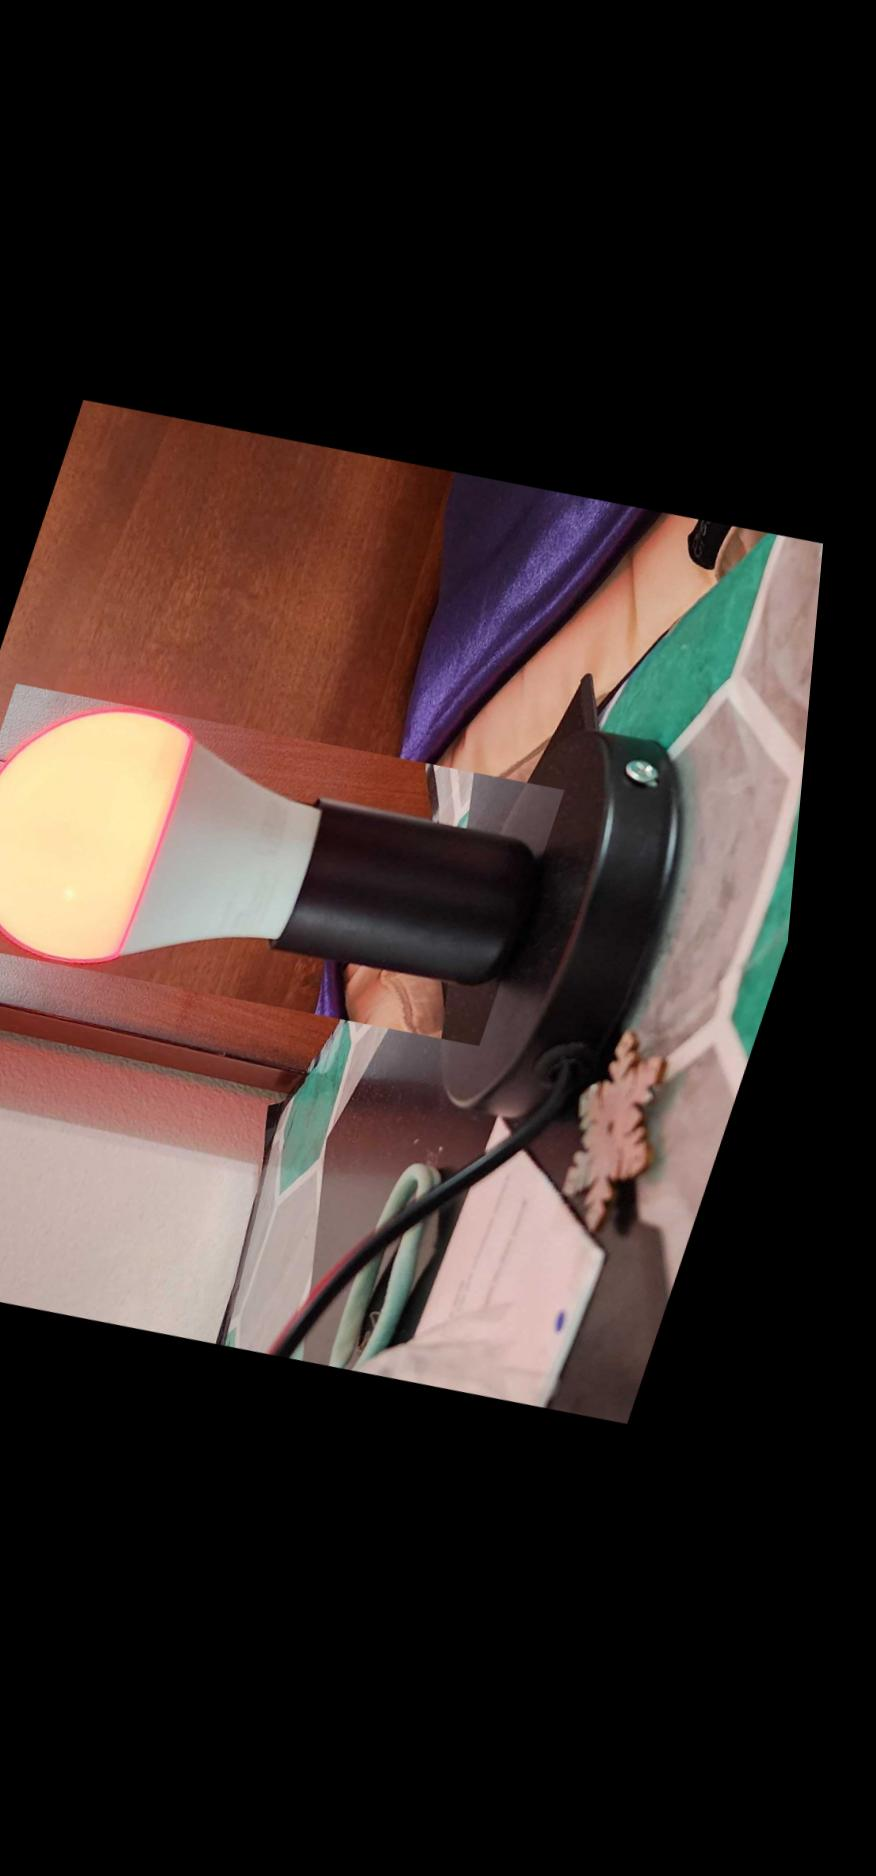TubeLight: (0, 658, 589, 1079)
